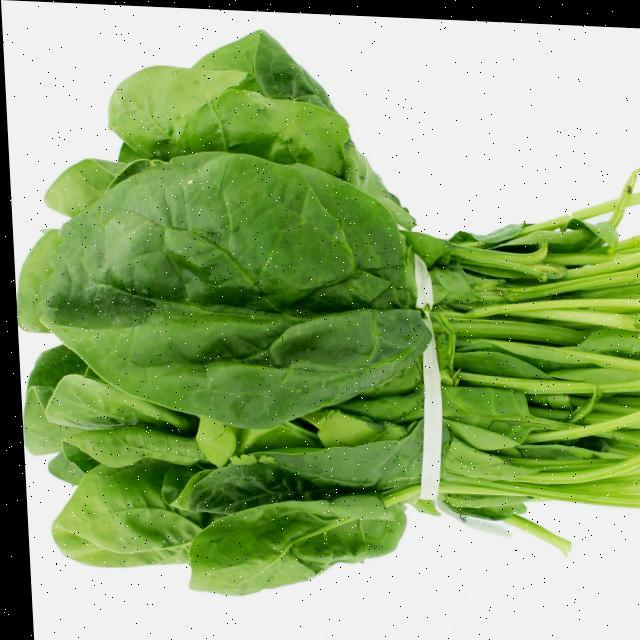Spinach: (1, 35, 640, 613)
